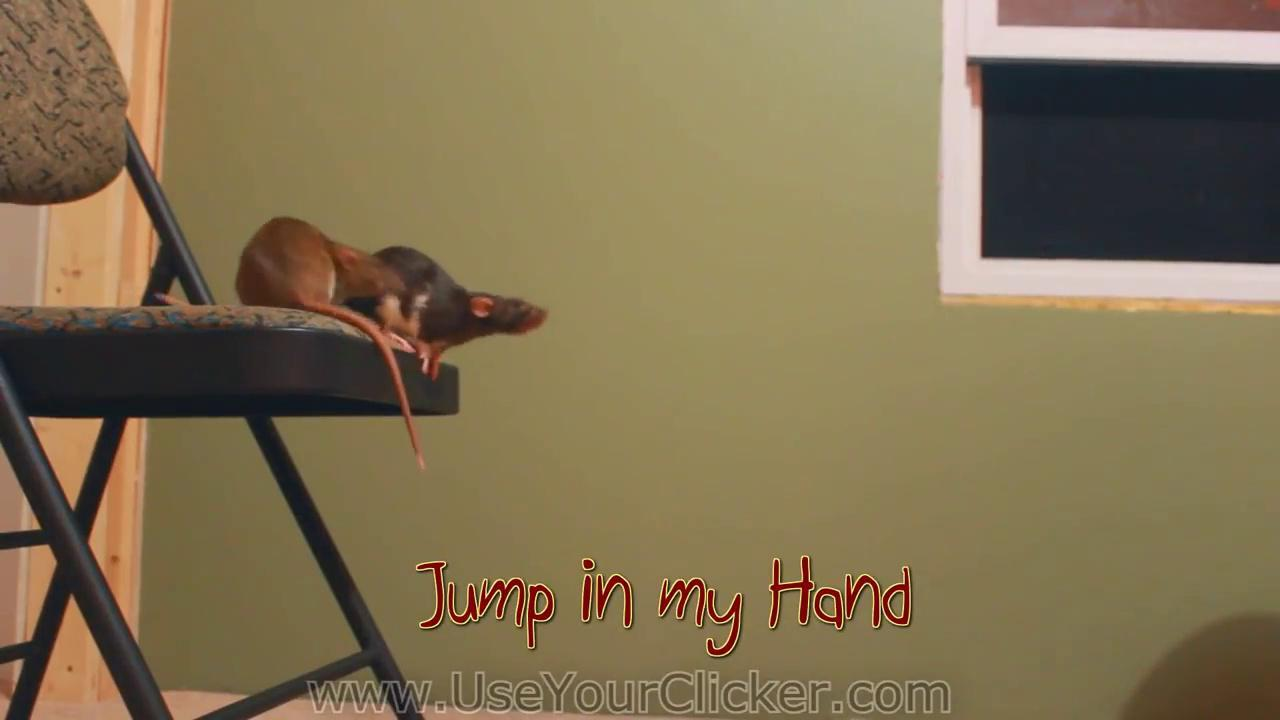rat: (238, 217, 427, 468), (348, 245, 550, 377)
